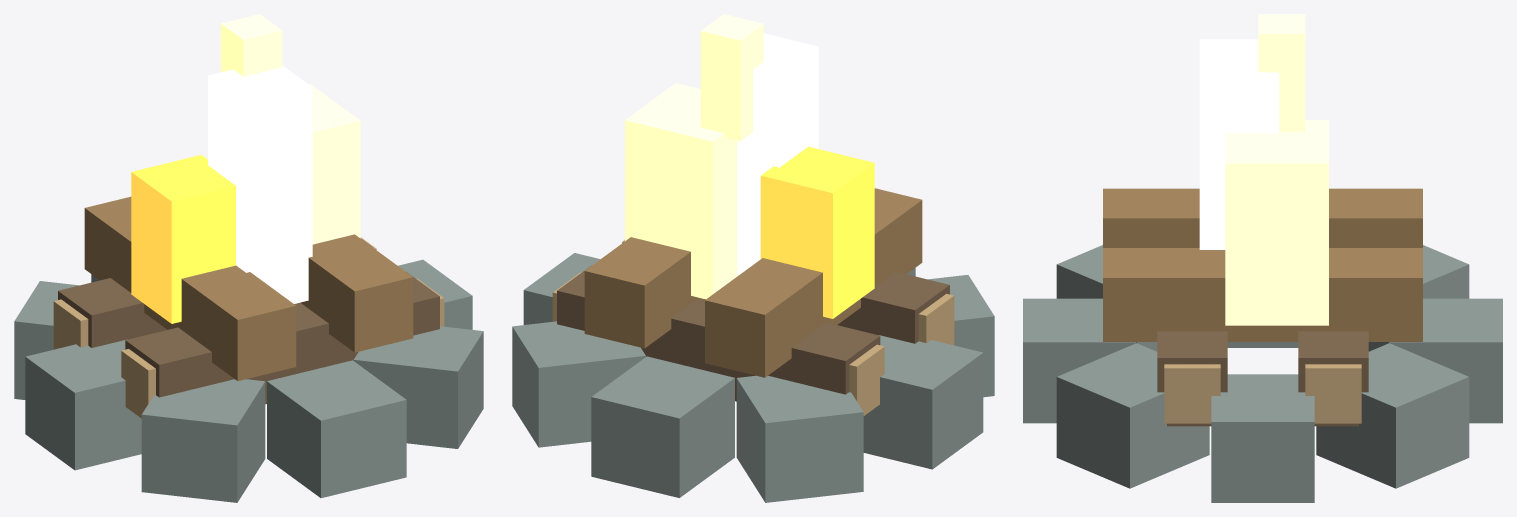
The model's file is campfire.fbx.
3 renders of one model, left to right at view 1: azimuth 30°, elevation 25°; view 2: azimuth 150°, elevation 25°; view 3: azimuth 270°, elevation 25°, orthographic. The views are drawn at different scales.
Parts seen in each view (by area): view 1: fire.002, hearth_stone.006, cross_log, hearth_stone.005, fire, hearth_stone.004, hearth_stone.007, cross_log.001, log, fire.001, log.001, fire.003 (+4 smaller); view 2: fire.001, hearth_stone.002, cross_log, fire, hearth_stone.003, hearth_stone.004, hearth_stone.001, fire.002, cross_log.001, log.001, fire.003, log (+4 smaller); view 3: cross_log.001, fire.001, hearth_stone.001, hearth_stone.007, hearth_stone, cross_log, fire.002, hearth_stone.002, hearth_stone.006, fire.003, log_end.001, log_end.003 (+4 smaller).
Part boxes in pixels (x1,y1,x2,y2): fire.002: (208,65,312,303); hearth_stone.006: (267,360,406,498); cross_log: (84,196,296,380); hearth_stone.005: (141,379,265,502); fire: (131,155,235,323); hearth_stone.004: (25,339,141,470); hearth_stone.007: (353,326,483,448); cross_log.001: (300,234,413,352); log: (125,272,439,404); fire.001: (309,84,360,244); log.001: (58,239,371,347); fire.003: (221,14,282,76); fire.001: (625,83,737,299); hearth_stone.002: (591,356,734,497); cross_log: (705,188,922,377); fire: (760,146,874,318); hearth_stone.003: (736,375,863,502); hearth_stone.004: (863,335,983,469); hearth_stone.001: (512,321,645,447); fire.002: (737,33,818,276); cross_log.001: (584,237,698,348); log.001: (557,265,880,401); fire.003: (700,14,763,141); log: (837,272,949,343); cross_log.001: (1103,248,1422,341); fire.001: (1225,120,1328,325); hearth_stone.001: (1316,343,1469,488); hearth_stone.007: (1056,343,1209,488); hearth_stone: (1211,374,1314,502); cross_log: (1103,188,1422,247); fire.002: (1199,39,1279,249); hearth_stone.002: (1390,298,1502,423); hearth_stone.006: (1023,298,1135,423); fire.003: (1258,14,1305,131); log_end.001: (1164,364,1220,423); log_end.003: (1305,364,1361,423).
Size of the model in its own units: 1.02 by 0.9 by 1.02.
